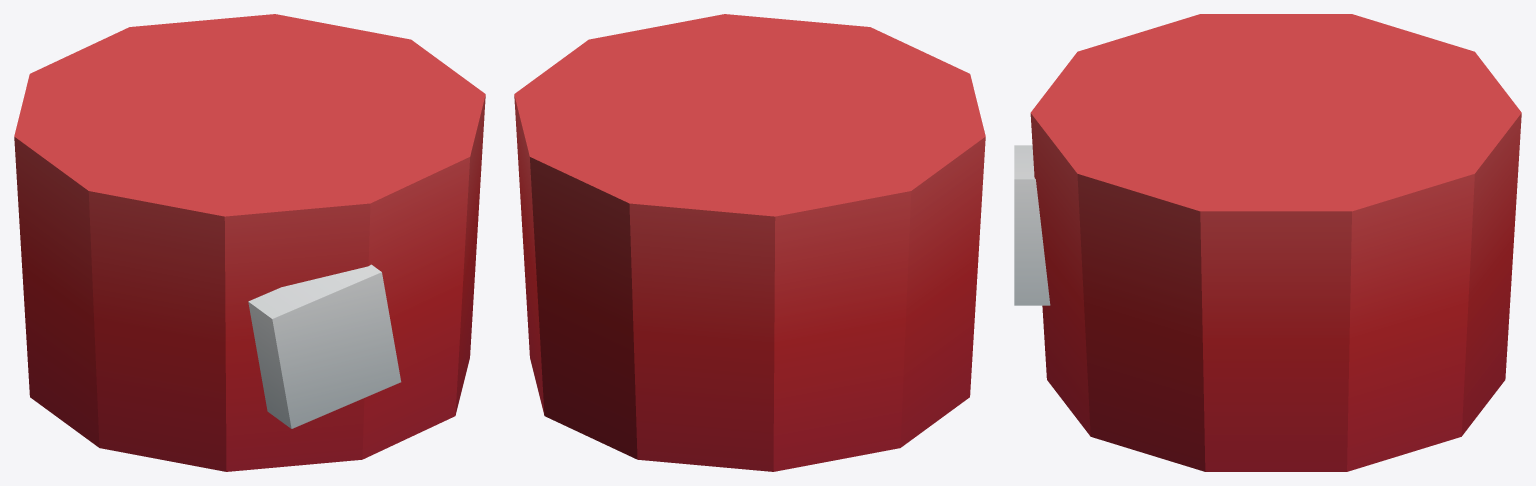
Rendered from patchwork_pants_shin.glb.
3 views of the same model, side by side, from view 1: azimuth 30°, elevation 25°; view 2: azimuth 150°, elevation 25°; view 3: azimuth 270°, elevation 25° (orthographic).
Visible parts, largest first — view 1: patchwork_pants_shin; view 2: patchwork_pants_shin; view 3: patchwork_pants_shin.
Boxes of the visible parts, <box> form: patchwork_pants_shin: <box>14,14,485,471</box>; patchwork_pants_shin: <box>514,14,985,471</box>; patchwork_pants_shin: <box>1014,14,1521,471</box>.
Bounding box in the file's own units: 0.2853 × 0.18 × 0.31.
Materials: 1 (1 with a texture image).
